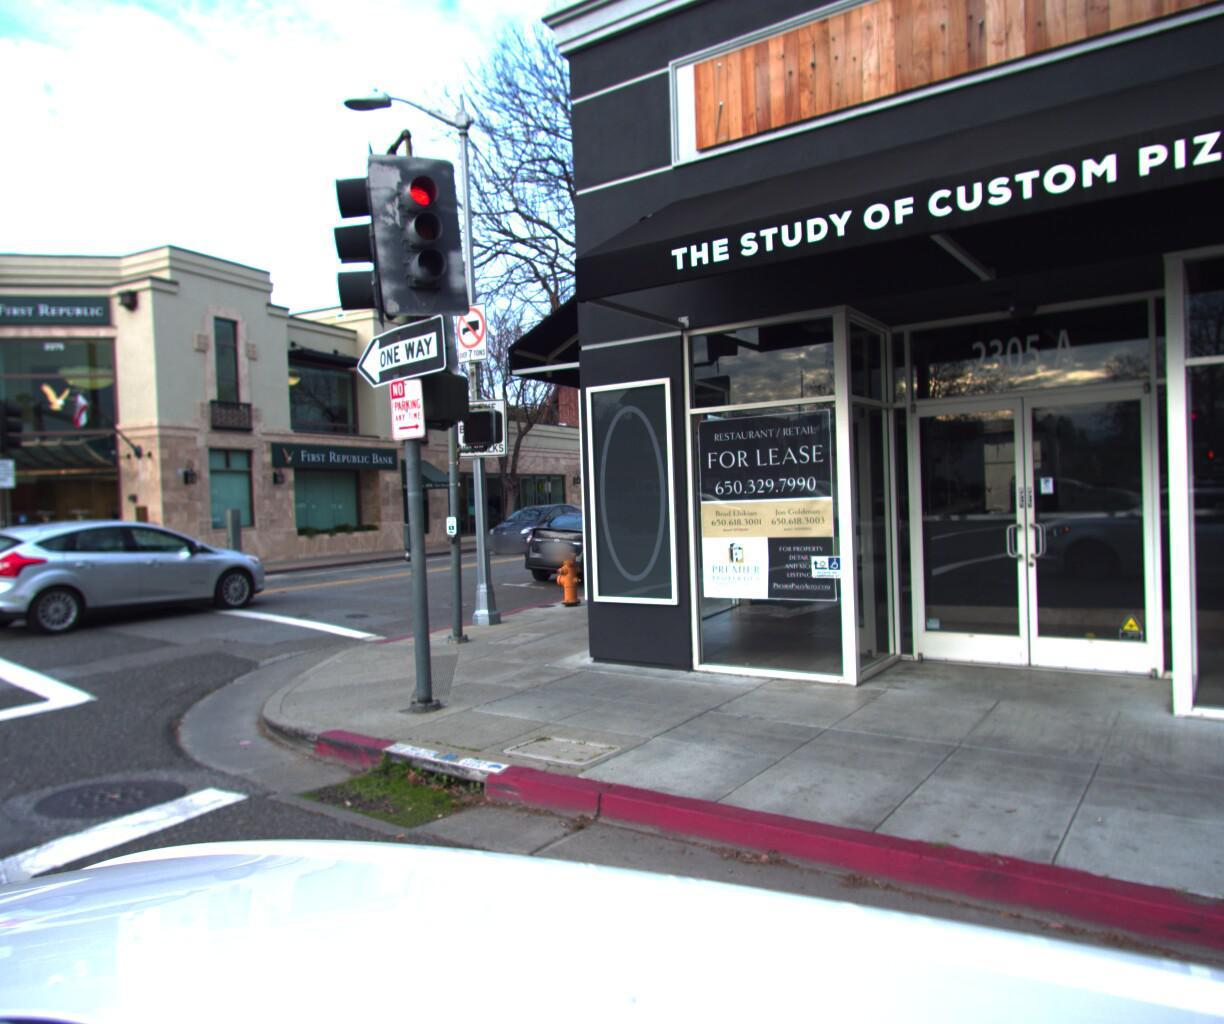car: (0, 511, 288, 641), (508, 504, 677, 593), (482, 499, 599, 555)
